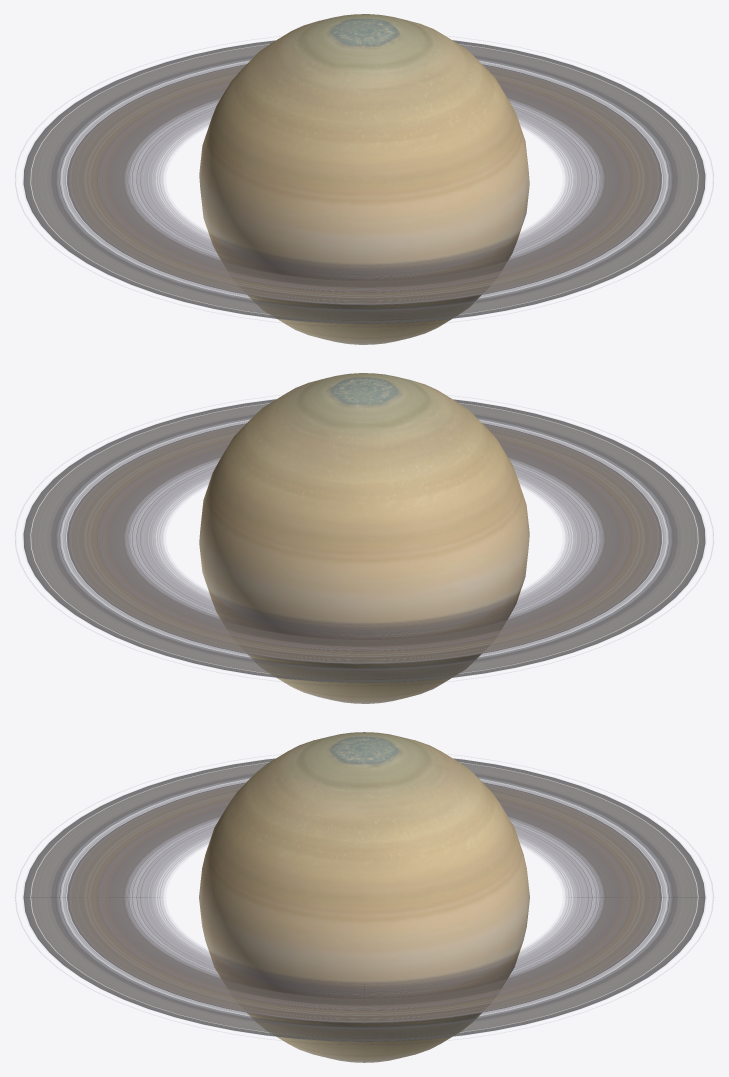
File: Saturn.glb
3 renders of one model, top to bottom at view 1: azimuth 30°, elevation 25°; view 2: azimuth 150°, elevation 25°; view 3: azimuth 270°, elevation 25°, orthographic.
Visible parts, largest first — view 1: Rings, Saturn; view 2: Rings, Saturn; view 3: Rings, Saturn.
Boxes of the visible parts, box(x1,y1,x2,y2) form: Rings: box(23, 40, 705, 323); Saturn: box(199, 14, 529, 344); Rings: box(23, 399, 705, 682); Saturn: box(199, 373, 529, 703); Rings: box(15, 758, 713, 1041); Saturn: box(199, 732, 529, 1062).
Bounding box in the file's own units: 4.23 × 2 × 4.23.
2 materials, 2 textured.
